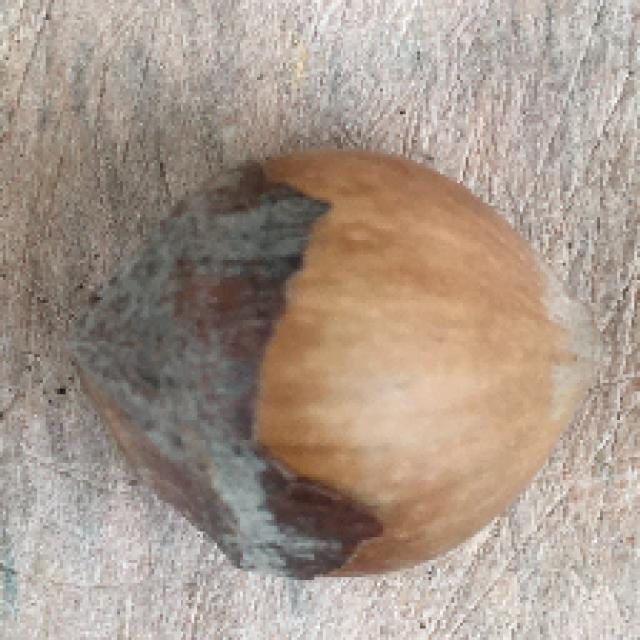damagedHazelnut: (68, 144, 595, 578)
